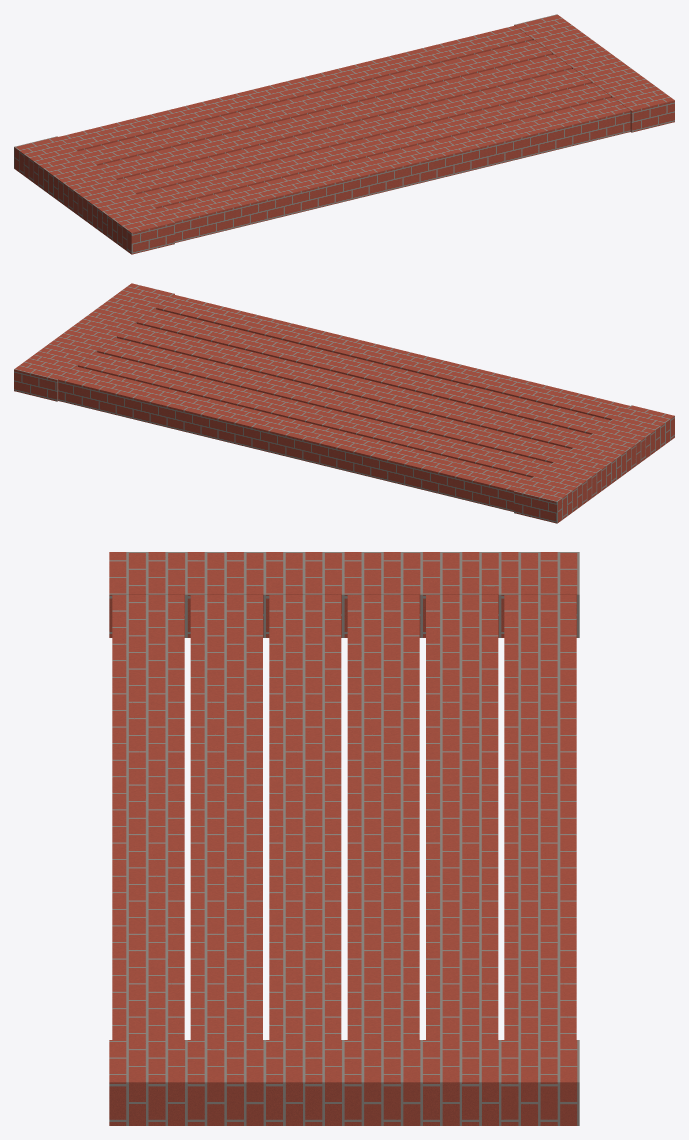
3 views of the same model, one above another, from view 1: azimuth 30°, elevation 25°; view 2: azimuth 150°, elevation 25°; view 3: azimuth 270°, elevation 25° (orthographic). The views are drawn at different scales.
Parts seen in each view (by area): view 1: wall_brick_2u_production_run001; view 2: wall_brick_2u_production_run001; view 3: wall_brick_2u_production_run001.
Part boxes in pixels (box(x1,y1,x2,y2)): wall_brick_2u_production_run001: box(14, 14, 674, 254); wall_brick_2u_production_run001: box(14, 283, 674, 523); wall_brick_2u_production_run001: box(109, 552, 579, 1125).
Bounding box in the file's own units: 8 × 0.306 × 3.
Materials: 1 (1 with a texture image).
